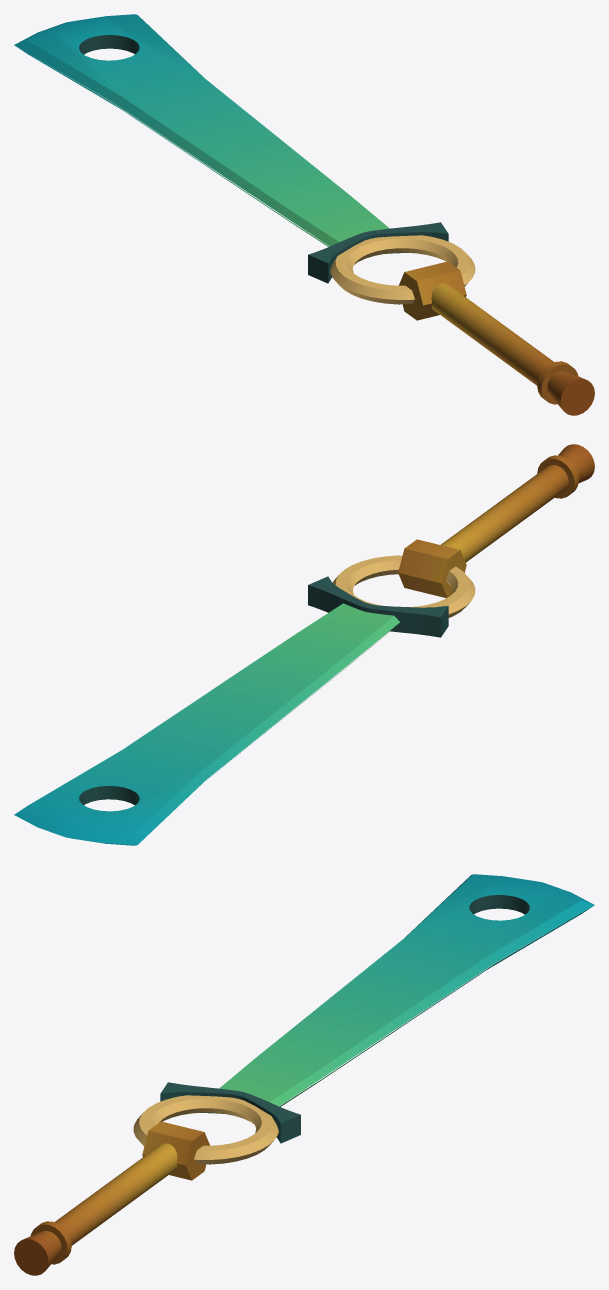
Rendered from mystical_weapon.glb.
The picture shows the model from 3 angles, top to bottom: view 1: azimuth 30°, elevation 25°; view 2: azimuth 150°, elevation 25°; view 3: azimuth 330°, elevation 25°; orthographic projection.
Parts seen in each view (by area): view 1: Cube; view 2: Cube; view 3: Cube.
Part boxes in pixels (<box>): Cube: <box>14,14,594,415</box>; Cube: <box>14,444,594,845</box>; Cube: <box>14,874,594,1275</box>.
Bounding box in the file's own units: 0.8559 × 0.2427 × 5.71.
1 material, 1 textured.
